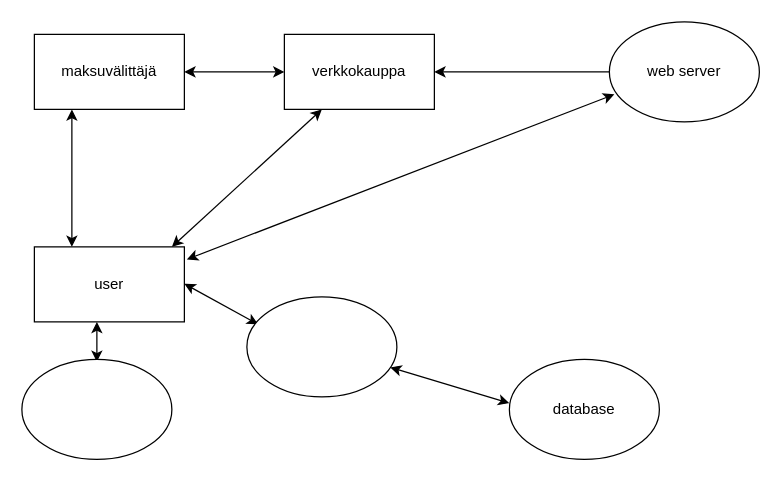
This 781x481 diagram has some shape labels left out. Here are the shapes that lost their labels. From the top down, the centre of each, then its label:
At point (321, 346): "web service for monitoring data".
At point (96, 408): "verenpainemittari".
